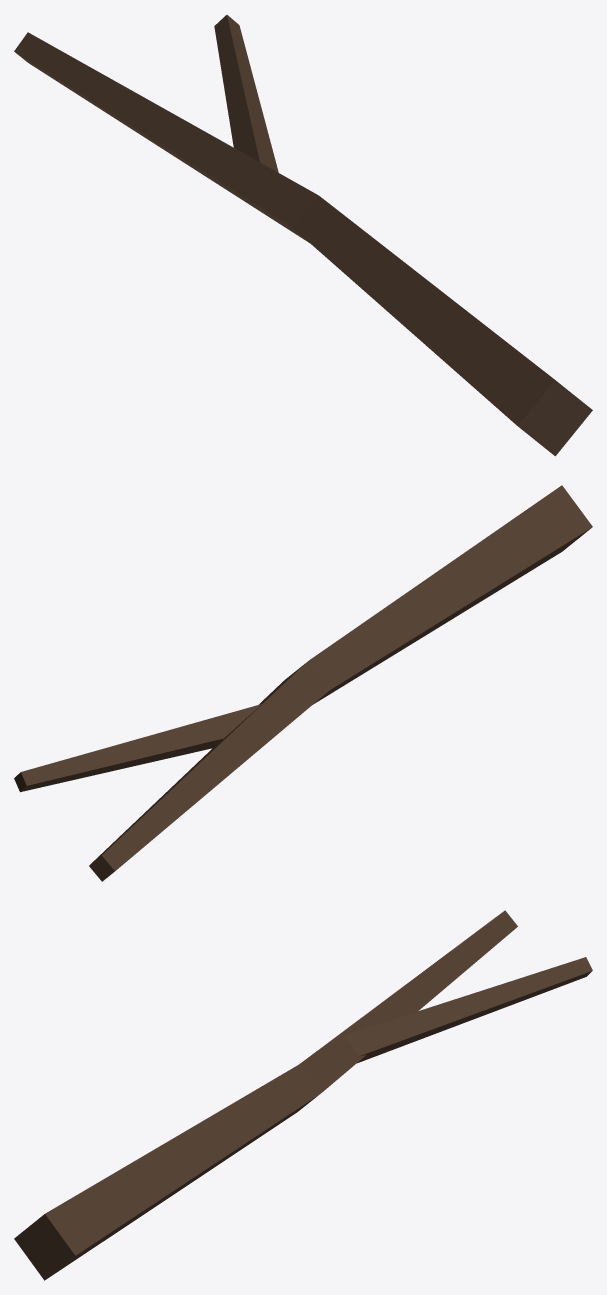
Rendered from rameau.glb.
3 views of the same model, one above another, from view 1: azimuth 30°, elevation 25°; view 2: azimuth 150°, elevation 25°; view 3: azimuth 330°, elevation 25° (orthographic). The views are drawn at different scales.
Visible parts, largest first — view 1: twig, fork; view 2: twig, fork; view 3: twig, fork.
Part boxes in pixels (x1,y1,x2,y2): twig: (14, 32, 592, 456); fork: (214, 15, 278, 172); twig: (89, 485, 592, 881); fork: (14, 704, 261, 792); twig: (14, 910, 517, 1280); fork: (345, 957, 592, 1063).
Bounding box in the file's own units: 0.1054 × 0.04 × 0.5017.
Materials: 1 (1 with a texture image).
